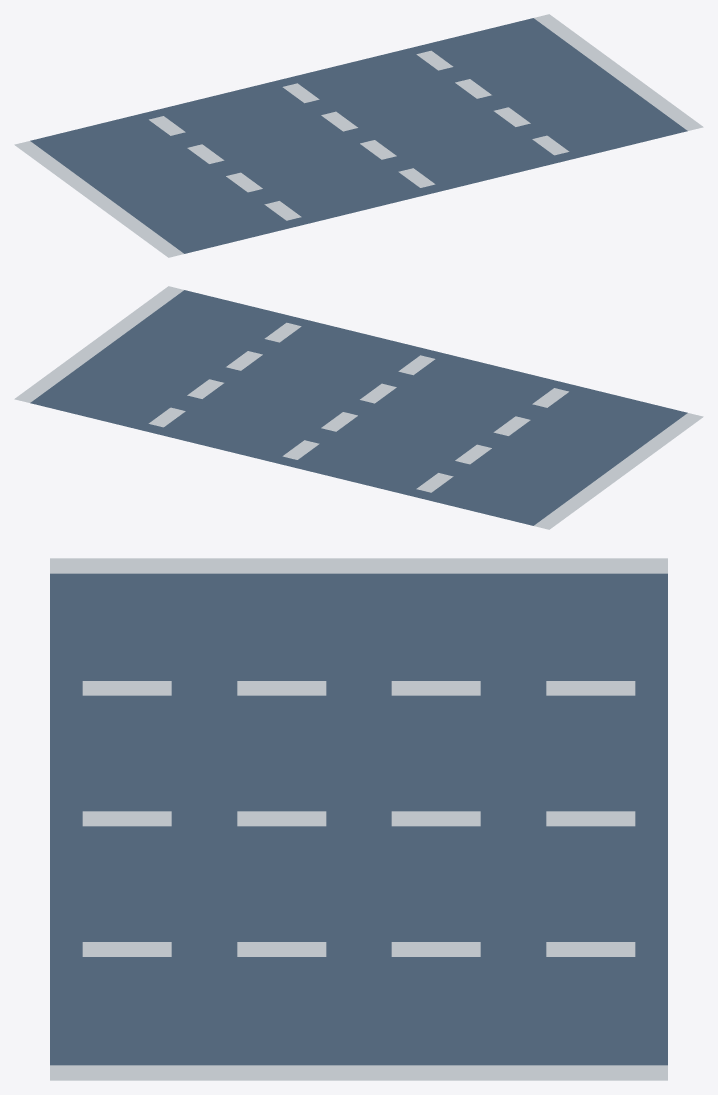
The model's file is road_door_1.fbx.
The picture shows the model from 3 angles, top to bottom: view 1: azimuth 30°, elevation 25°; view 2: azimuth 150°, elevation 25°; view 3: azimuth 270°, elevation 25°; orthographic projection. The views are drawn at different scales.
Parts seen in each view (by area): view 1: road_door_1; view 2: road_door_1; view 3: road_door_1.
Part boxes in pixels (box(x1,y1,x2,y2)): road_door_1: box(14, 14, 703, 257); road_door_1: box(14, 286, 703, 529); road_door_1: box(50, 558, 667, 1080).
Size of the model in its own units: 2000 by 1 by 1000.
